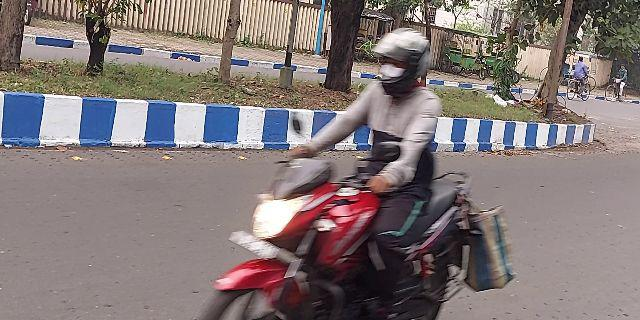Motorbike: (188, 32, 500, 315)
